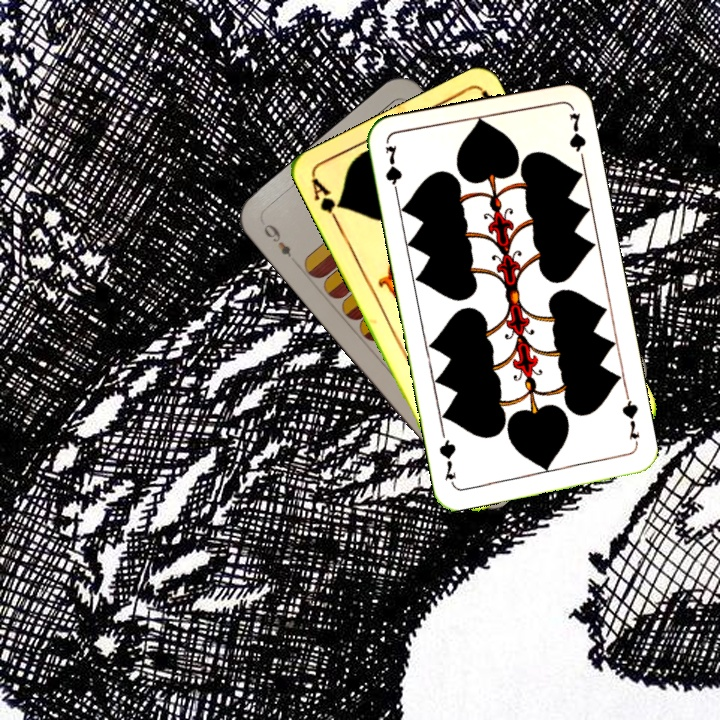E9: (259, 219, 294, 260)
G7: (381, 141, 405, 200), (618, 391, 642, 450)
GA: (307, 174, 346, 229)
